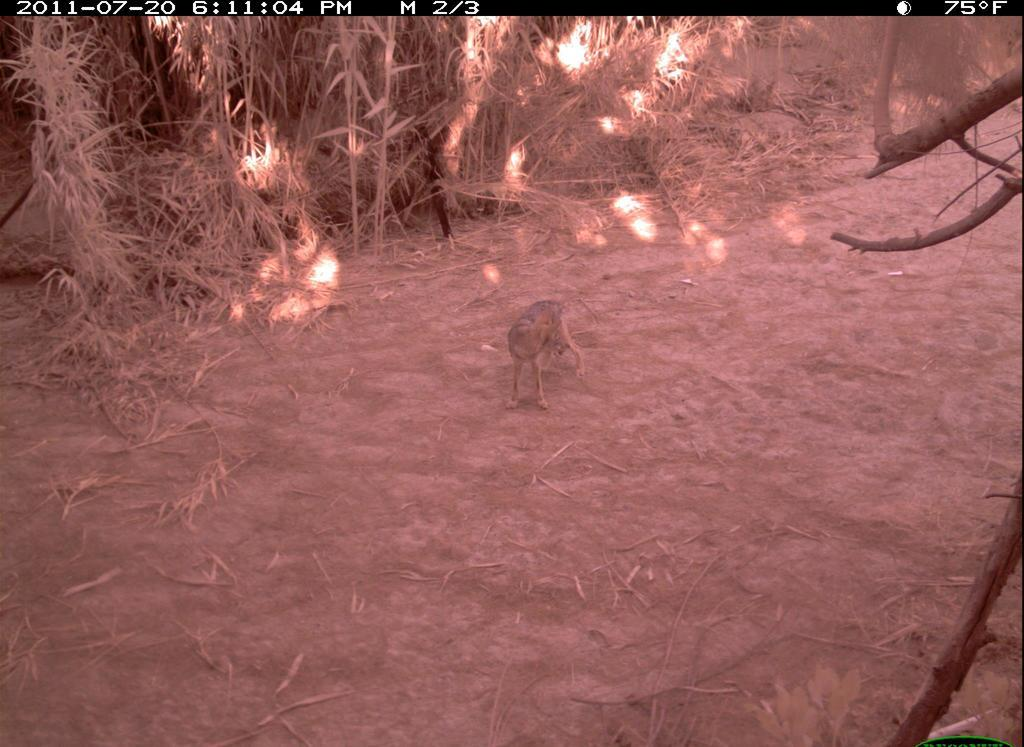coyote: (486, 289, 601, 422)
